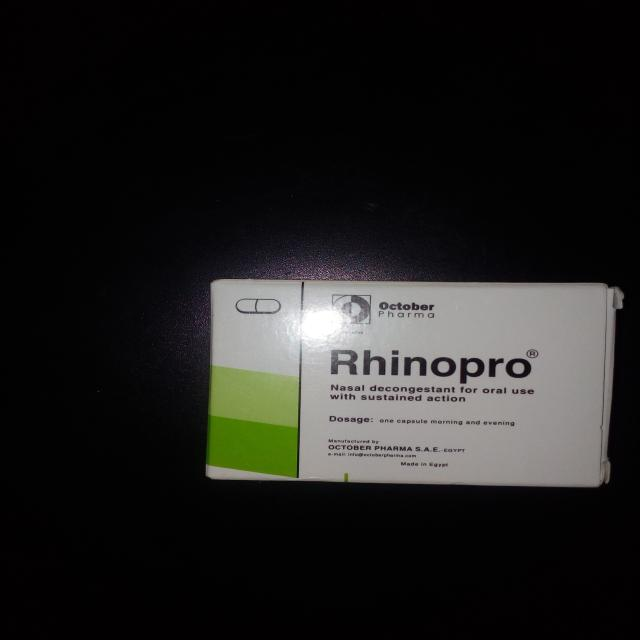Medicine: (199, 274, 620, 490)
